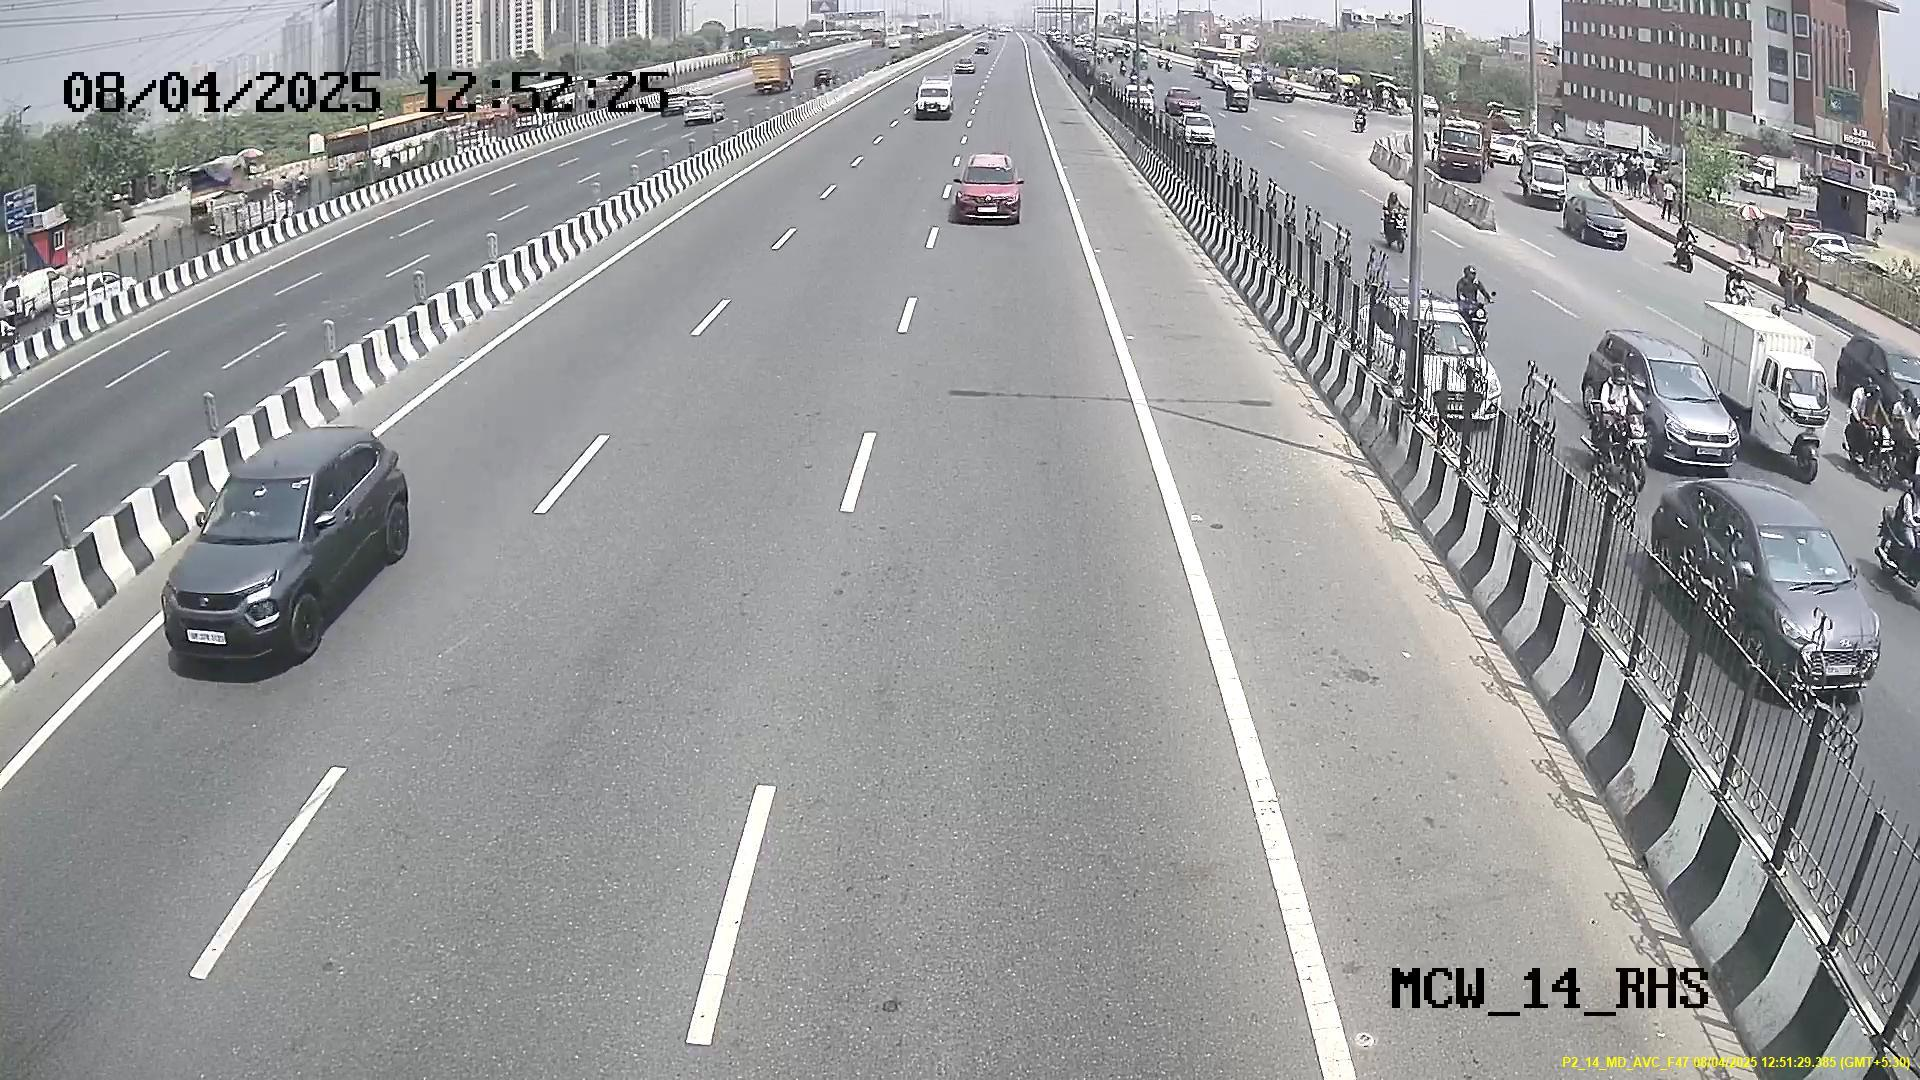car: (154, 456, 342, 667), (953, 156, 1027, 229)
